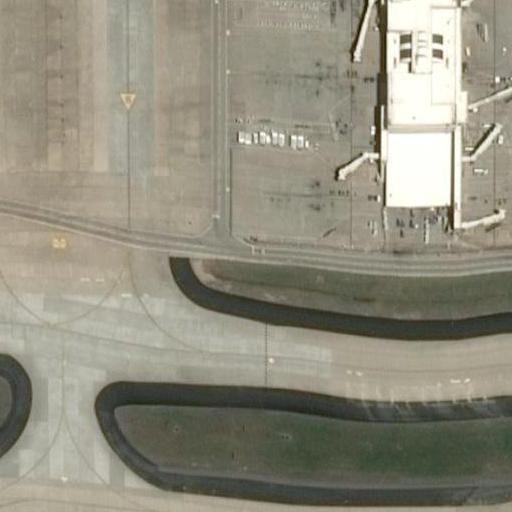Aircraft: (510, 38, 512, 117)
